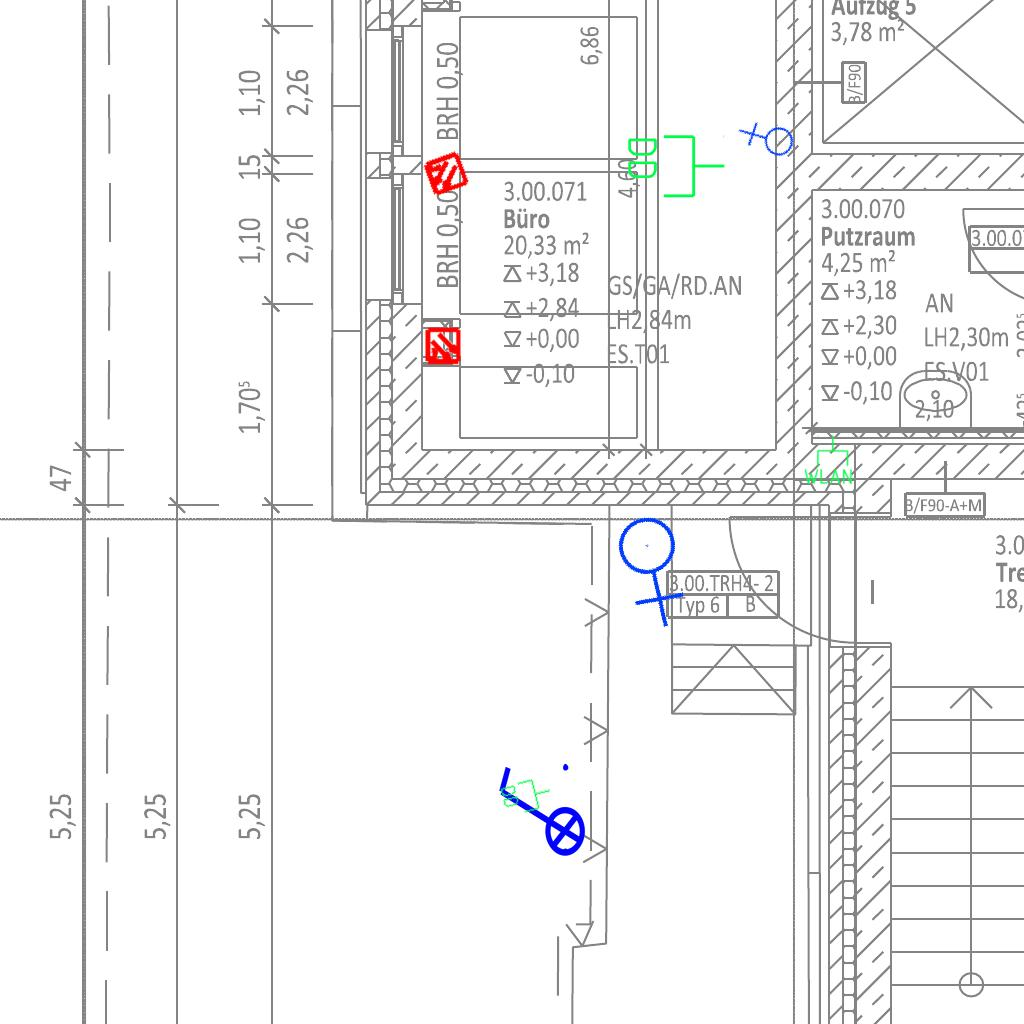Ausschalter_beleuchtet: (491, 758, 587, 870)
Datenanschluss_zweifach: (624, 131, 727, 200), (497, 773, 556, 819)
Elektroanschluss_allgemein_230V_Geraeteanschlussdose_230V: (589, 498, 722, 632), (735, 107, 802, 174)
OT_Multisensormelder_(Kombination_RMO_WMD): (409, 138, 481, 210), (415, 319, 471, 375)
WLAN: (802, 434, 854, 486)
